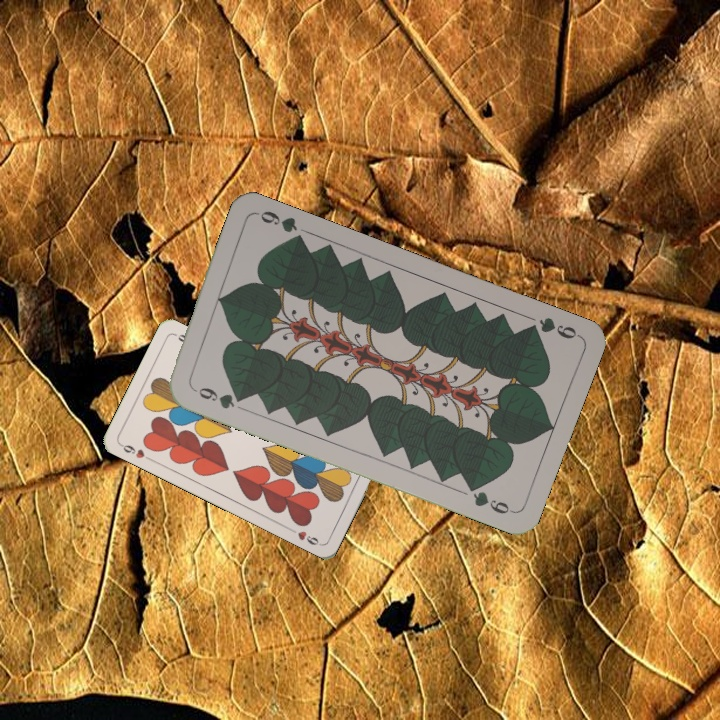G9: (521, 313, 582, 342), (187, 383, 247, 412)
H9: (116, 440, 154, 463)
